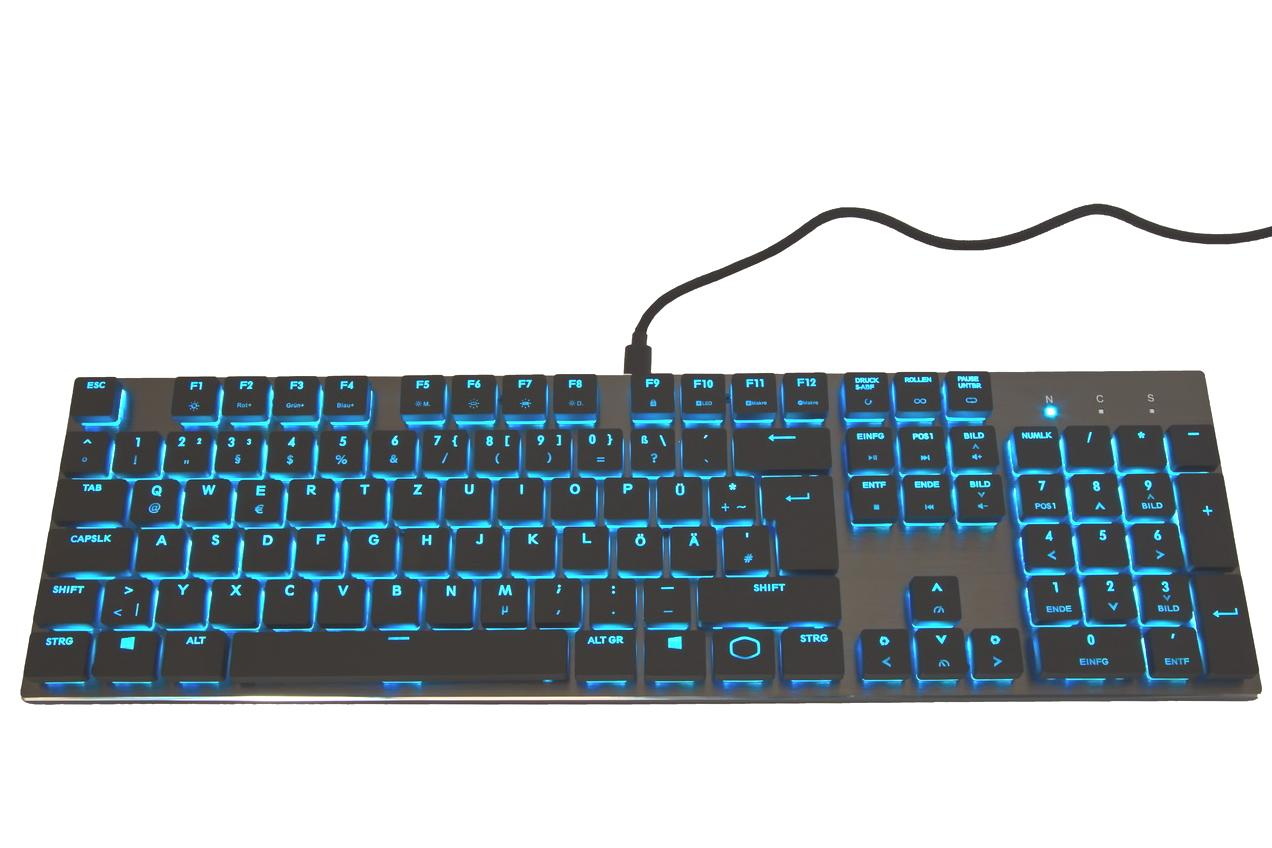0: (575, 424, 623, 471)
1: (110, 428, 159, 473)
2: (162, 429, 210, 473)
3: (213, 429, 261, 473)
4: (265, 428, 313, 473)
5: (315, 427, 365, 473)
6: (368, 426, 416, 472)
7: (420, 427, 467, 470)
8: (471, 427, 519, 472)
9: (522, 427, 571, 471)
a: (134, 526, 184, 571)
accent: (680, 425, 726, 470)
ae: (668, 523, 716, 572)
alt-left: (160, 627, 226, 679)
altgr-right: (572, 626, 637, 680)
b: (369, 575, 419, 624)
c: (262, 576, 312, 625)
caret: (61, 431, 106, 474)
comma: (532, 576, 581, 624)
d: (240, 526, 288, 572)
del: (733, 425, 830, 470)
e: (233, 476, 282, 522)
enter: (763, 473, 837, 571)
f: (294, 525, 341, 570)
g: (347, 526, 394, 571)
h: (399, 525, 448, 570)
hash: (721, 523, 769, 573)
i: (495, 475, 543, 518)
j: (453, 524, 501, 570)
k: (506, 523, 555, 570)
keyboard: (20, 366, 1265, 706)
l: (560, 523, 608, 569)
less: (99, 575, 150, 625)
m: (478, 575, 528, 624)
minus: (641, 575, 690, 623)
n: (424, 576, 473, 625)
o: (548, 475, 597, 519)
oe: (614, 524, 661, 571)
p: (601, 475, 648, 519)
plus: (708, 473, 754, 520)
point: (587, 576, 635, 622)
q: (128, 476, 179, 522)
r: (285, 476, 334, 521)
s: (187, 525, 236, 572)
shift-left: (33, 577, 97, 623)
shift-lock: (44, 524, 131, 570)
shift-right: (695, 574, 840, 622)
space: (230, 629, 568, 680)
ss: (628, 426, 675, 471)
strg-left: (27, 628, 91, 680)
strg-right: (779, 624, 845, 679)
t: (337, 476, 386, 520)
tab: (52, 476, 125, 520)
u: (442, 476, 491, 519)
ue: (654, 474, 702, 519)
v: (316, 575, 365, 626)
w: (181, 476, 230, 522)
x: (208, 576, 259, 625)
y: (153, 576, 204, 624)
z: (391, 476, 438, 520)
